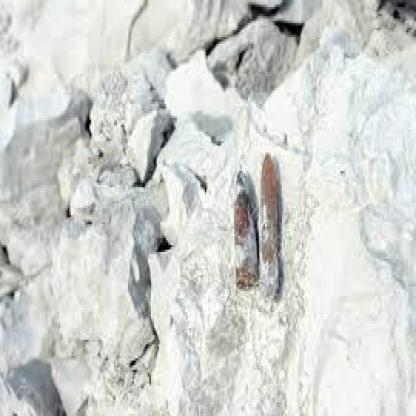Sedimentary_Chalk: (309, 41, 416, 415), (2, 58, 83, 194), (94, 233, 157, 393), (2, 275, 66, 414), (166, 298, 244, 412), (256, 302, 304, 414), (171, 48, 234, 130), (259, 81, 297, 141)
